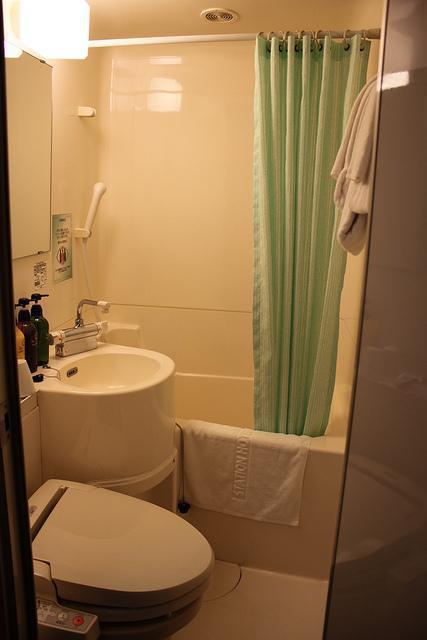Lavamanos: (16, 291, 179, 605)
Sanitario: (9, 357, 210, 632)
